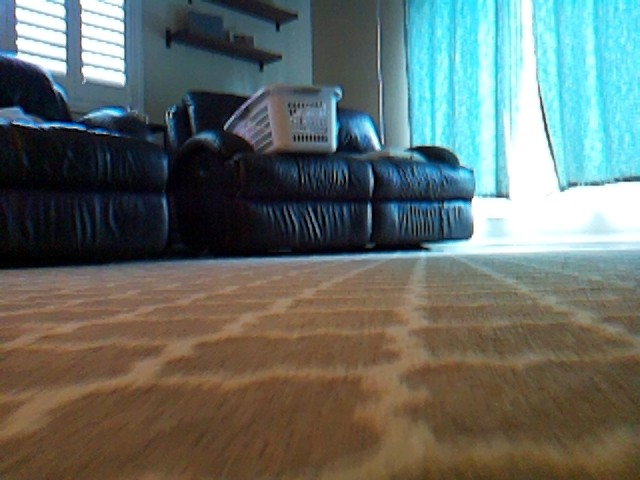Drivable Area: (0, 278, 639, 480), (180, 258, 639, 278), (446, 252, 639, 258)
Obstacle: (191, 90, 475, 242), (0, 53, 188, 255)
